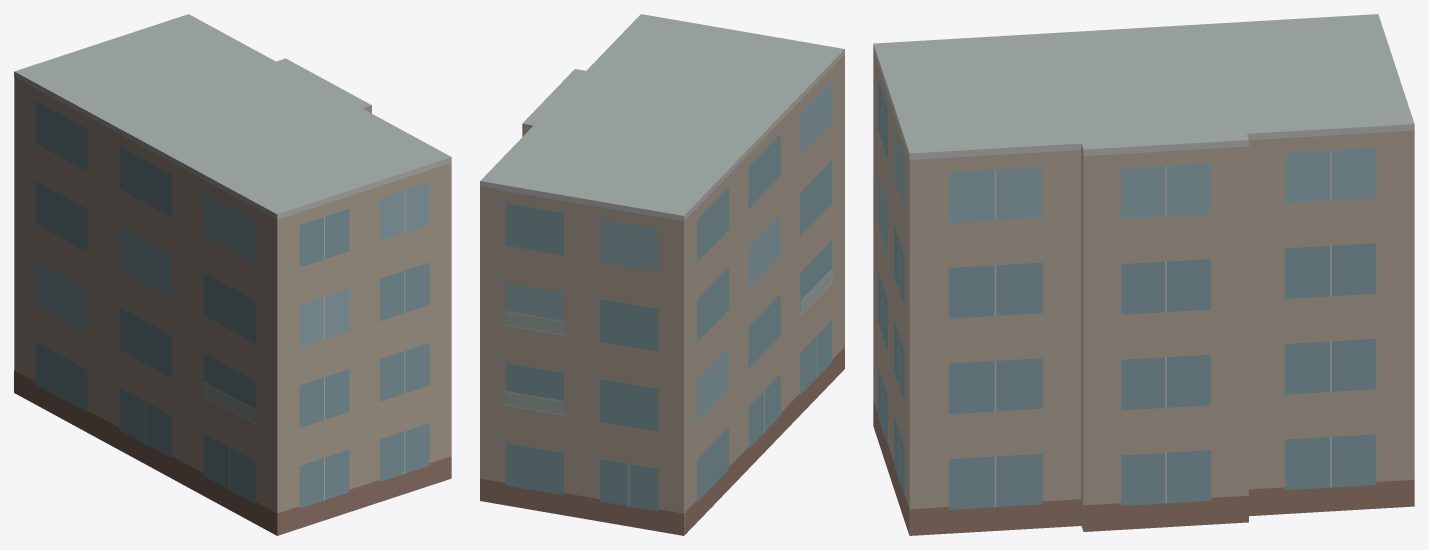
File: survey-upis-32979520.glb
The picture shows the model from 3 angles, left to right: view 1: azimuth 30°, elevation 25°; view 2: azimuth 150°, elevation 25°; view 3: azimuth 270°, elevation 25°; orthographic projection. The views are drawn at different scales.
Visible parts, largest first — view 1: survey-upis-32979520.tmp; view 2: survey-upis-32979520.tmp; view 3: survey-upis-32979520.tmp.
Boxes of the visible parts, x1,y1,x2,y2 form: survey-upis-32979520.tmp: (14, 14, 451, 535); survey-upis-32979520.tmp: (480, 14, 844, 535); survey-upis-32979520.tmp: (873, 14, 1414, 535).
Size of the model in its own units: 11.27 by 14.39 by 18.47.
